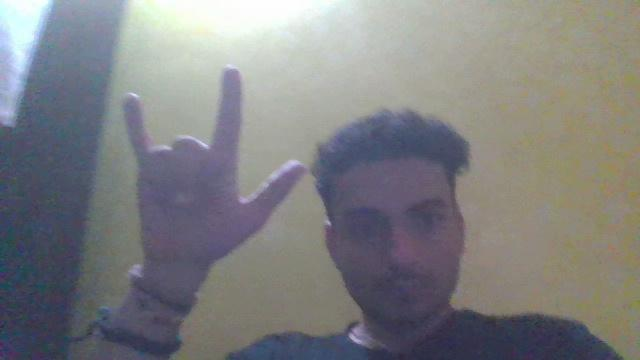Loveyou: (97, 69, 322, 290)
